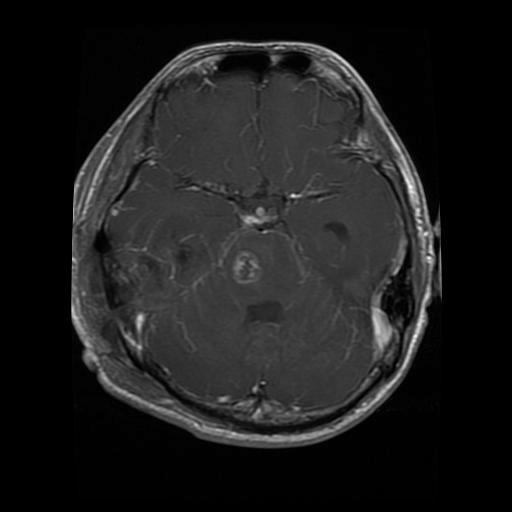Tumour-Glioma: (220, 241, 280, 300)
